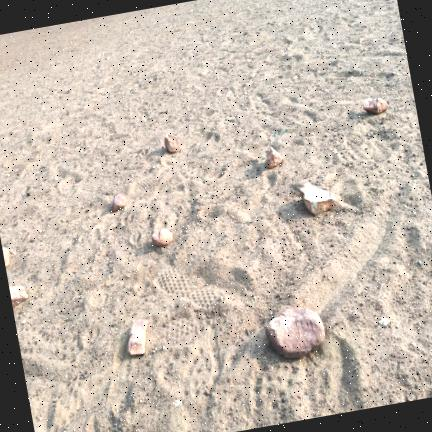Rocks: (265, 308, 324, 358), (299, 184, 334, 215), (127, 319, 147, 356), (363, 98, 387, 114), (9, 286, 27, 306), (152, 229, 172, 246), (266, 147, 281, 168), (164, 134, 180, 153), (109, 195, 125, 212), (2, 248, 10, 266), (378, 318, 389, 327), (406, 395, 415, 401)
